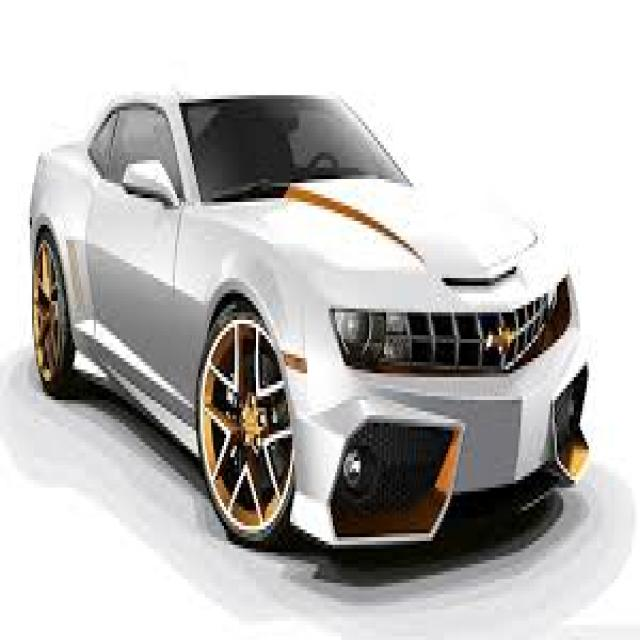Car: (33, 67, 593, 565)
